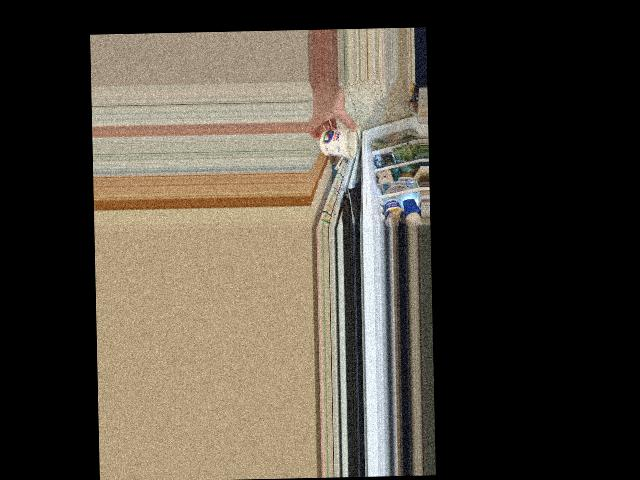cotage: (316, 128, 356, 160)
